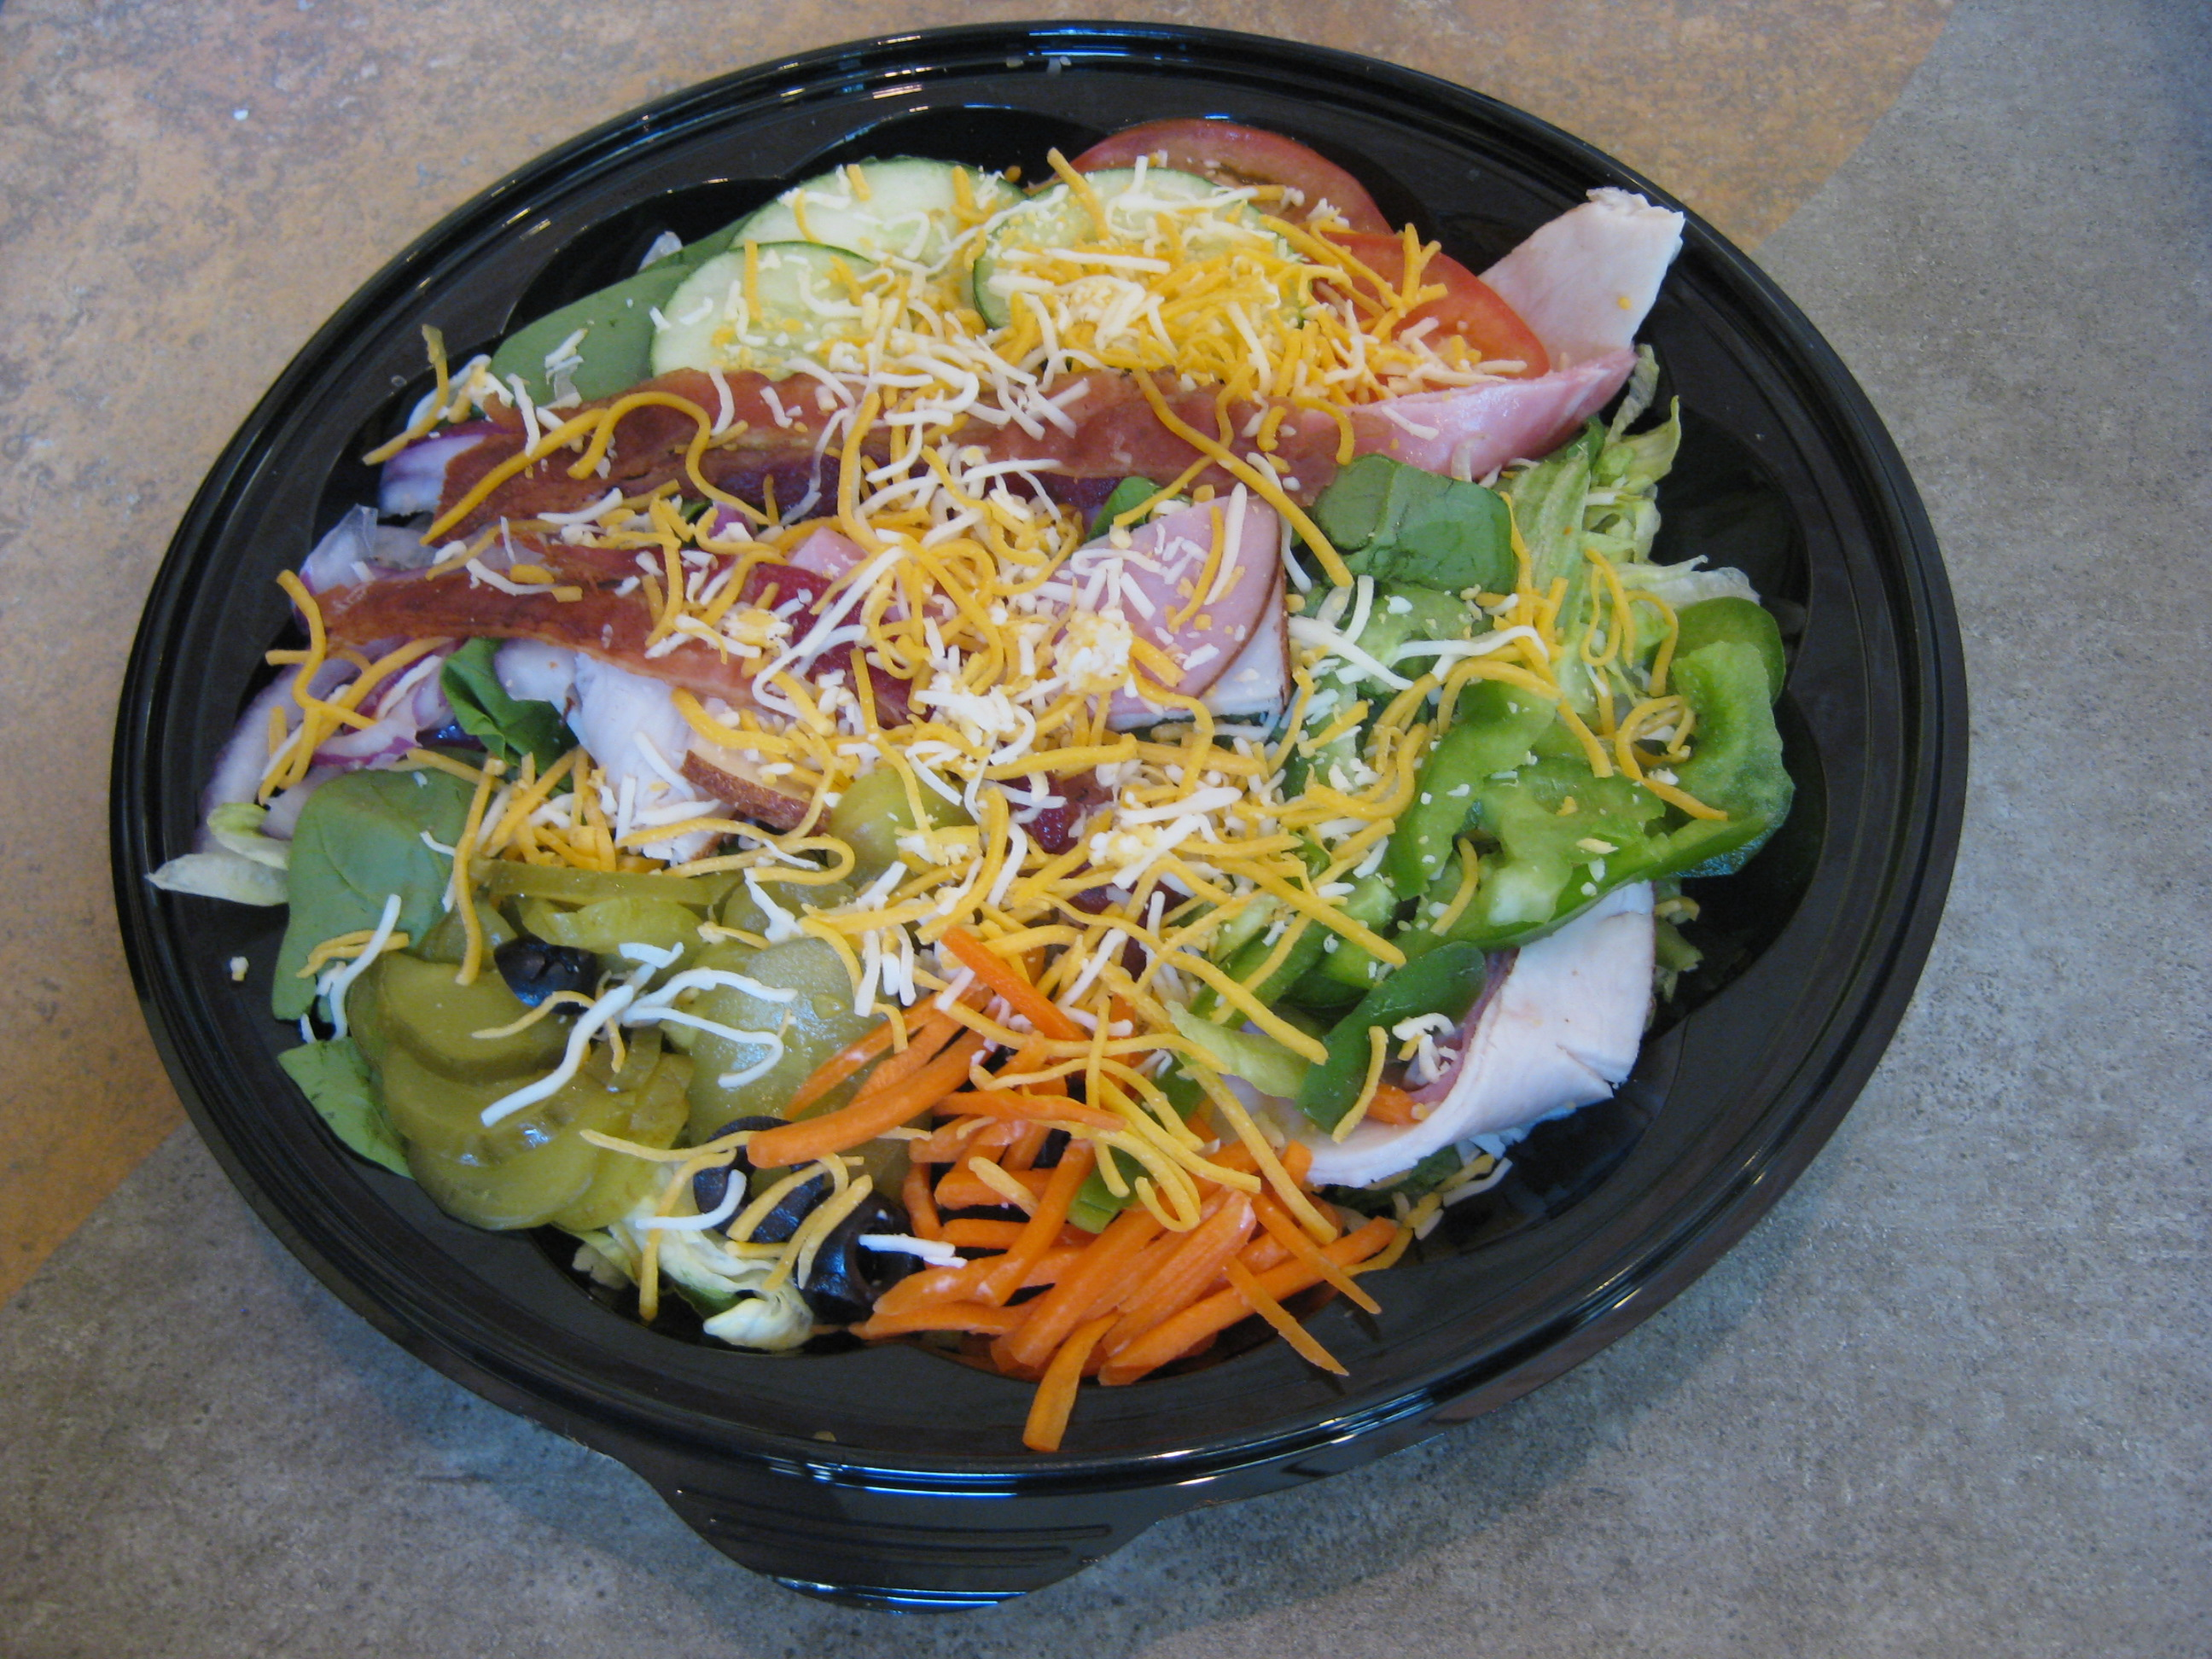salad: (251, 125, 1846, 1380)
